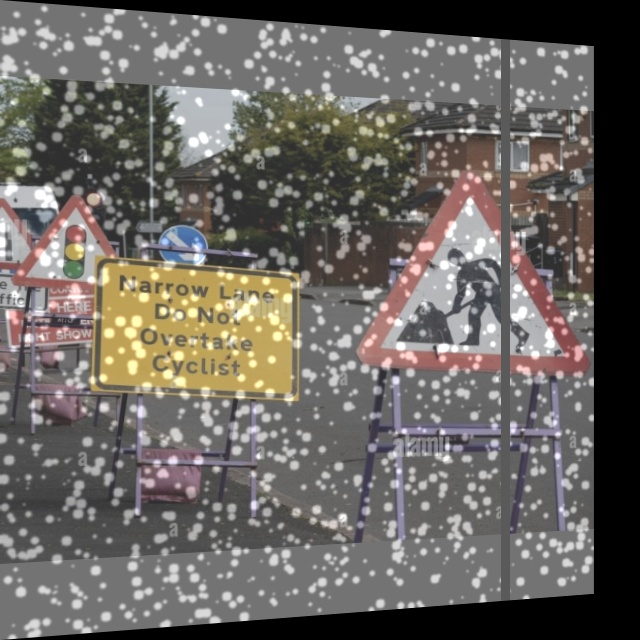Men_at_Work: (356, 151, 588, 382)
